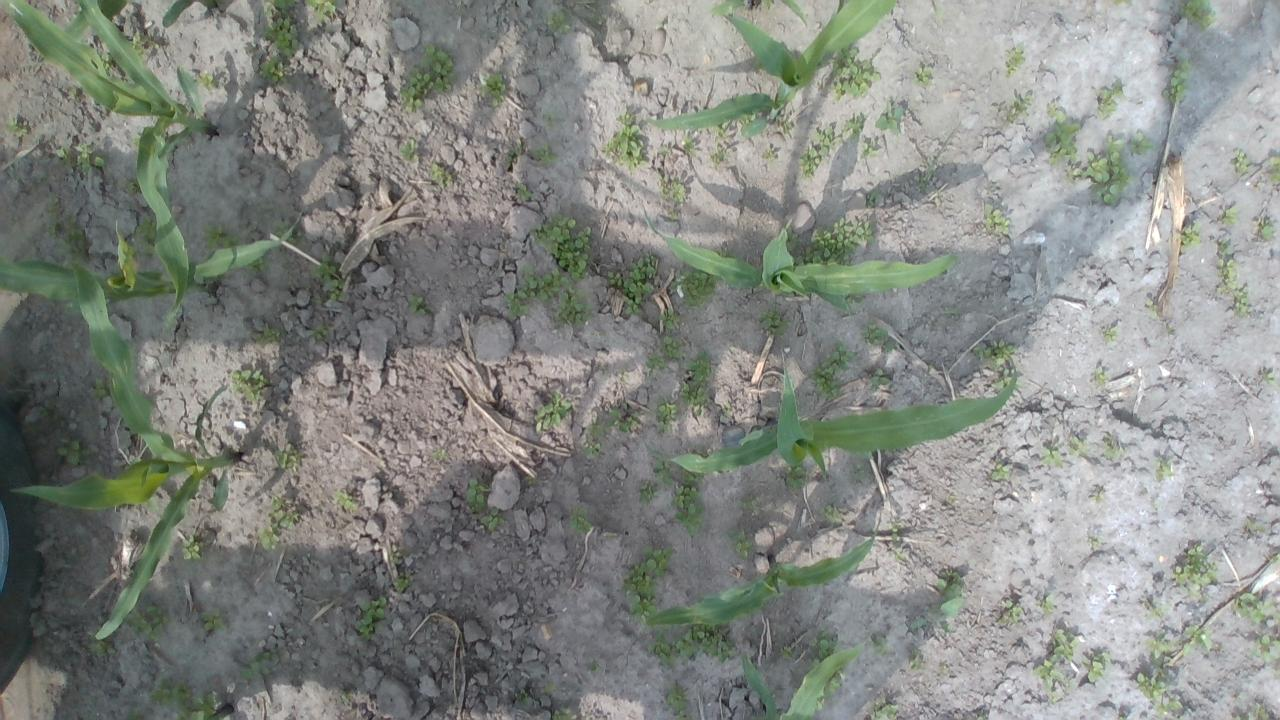Maize: (8, 242, 244, 644), (0, 2, 219, 332), (644, 348, 1018, 488), (638, 201, 958, 316), (644, 1, 898, 140), (0, 208, 304, 308), (644, 507, 882, 630), (739, 632, 872, 720), (56, 0, 220, 46)
Weeds: (504, 262, 593, 322), (530, 212, 594, 282), (648, 622, 736, 670), (397, 44, 457, 114), (804, 215, 877, 268), (622, 546, 671, 622), (258, 0, 302, 84), (1084, 134, 1132, 207), (148, 675, 226, 719), (1034, 630, 1078, 704), (829, 46, 883, 102), (1044, 104, 1081, 181), (1170, 544, 1218, 600), (604, 112, 646, 170), (810, 345, 854, 400), (646, 310, 684, 373), (799, 124, 840, 178), (624, 253, 658, 317), (680, 350, 715, 412), (669, 267, 720, 309), (1136, 670, 1182, 716), (673, 482, 705, 539), (312, 253, 348, 303), (58, 140, 107, 174), (126, 606, 172, 641), (56, 222, 90, 268), (533, 392, 572, 432), (228, 367, 270, 403), (355, 597, 389, 641), (936, 573, 964, 623), (1233, 591, 1275, 624), (974, 339, 1017, 370), (1163, 61, 1194, 103), (809, 630, 839, 672), (240, 650, 279, 682), (1178, 0, 1218, 31), (134, 212, 160, 258), (756, 307, 792, 338), (203, 222, 239, 252), (478, 70, 508, 106), (269, 495, 299, 530), (1252, 633, 1278, 673), (1182, 624, 1214, 656), (1096, 84, 1124, 120), (582, 419, 607, 459), (1082, 650, 1112, 683), (1216, 249, 1238, 294), (464, 476, 490, 514), (1005, 92, 1034, 126), (860, 322, 894, 350), (875, 100, 904, 132), (606, 408, 640, 435), (719, 112, 754, 138), (1146, 635, 1175, 666), (57, 438, 89, 466), (654, 398, 680, 432), (306, 0, 339, 26), (983, 206, 1011, 236), (180, 532, 208, 562), (666, 684, 690, 719), (660, 175, 687, 205), (1004, 43, 1028, 76), (274, 444, 302, 472), (568, 502, 592, 534), (866, 367, 894, 394), (254, 525, 282, 552), (729, 529, 754, 559), (652, 450, 672, 485), (891, 523, 908, 564), (190, 68, 219, 92), (531, 142, 559, 166), (3, 110, 26, 139), (199, 608, 226, 632), (544, 10, 571, 34), (1235, 703, 1273, 720), (1180, 221, 1202, 250), (771, 112, 794, 139), (88, 640, 116, 662), (993, 371, 1022, 392), (1103, 432, 1124, 461), (480, 507, 505, 531), (408, 294, 432, 318), (841, 115, 864, 140), (255, 325, 283, 345), (1234, 287, 1252, 318), (428, 162, 450, 187), (786, 465, 808, 490), (1245, 517, 1272, 537), (504, 143, 524, 170), (1041, 443, 1064, 466), (1218, 206, 1240, 230), (709, 146, 735, 166), (1002, 597, 1022, 623), (1232, 149, 1252, 175), (1135, 129, 1154, 156), (911, 64, 934, 86), (1256, 216, 1276, 241), (871, 701, 898, 719), (1066, 434, 1088, 456), (826, 666, 848, 688), (91, 376, 112, 399), (637, 480, 656, 505), (1266, 155, 1280, 187), (822, 506, 844, 526), (1040, 596, 1060, 618), (398, 140, 418, 162), (1154, 459, 1174, 481), (334, 490, 357, 509), (514, 182, 534, 202), (272, 222, 292, 242), (677, 138, 695, 160), (132, 30, 146, 58), (861, 138, 880, 158), (309, 326, 329, 344), (910, 647, 924, 672), (866, 190, 884, 209), (990, 463, 1010, 480), (393, 576, 410, 596), (516, 688, 532, 709), (840, 292, 864, 306), (606, 270, 624, 288), (734, 498, 758, 511), (542, 109, 560, 126), (1149, 601, 1164, 619), (762, 144, 781, 158), (918, 167, 932, 186), (100, 51, 114, 70), (1094, 364, 1107, 384), (390, 544, 402, 564), (125, 181, 142, 195), (433, 448, 447, 464), (658, 144, 672, 158), (538, 684, 557, 694), (910, 618, 925, 630), (781, 646, 794, 659), (1103, 324, 1116, 336)
